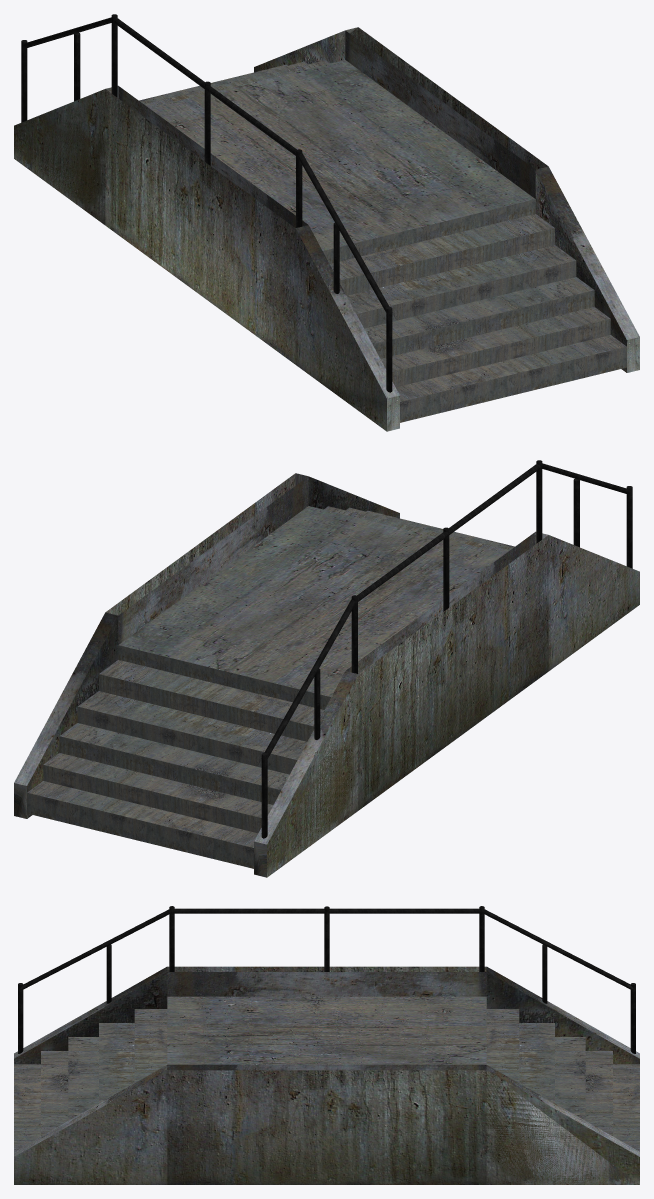
The model's file is OldDirtyStairs_Long_final.fbx.
3 views of the same model, one above another, from view 1: azimuth 30°, elevation 25°; view 2: azimuth 150°, elevation 25°; view 3: azimuth 270°, elevation 25° (orthographic). The views are drawn at different scales.
Parts seen in each view (by area): view 1: DirtyStairs_Long; view 2: DirtyStairs_Long; view 3: DirtyStairs_Long.
Part boxes in pixels (bbox=[...]): DirtyStairs_Long: bbox=[14, 14, 639, 431]; DirtyStairs_Long: bbox=[14, 460, 639, 877]; DirtyStairs_Long: bbox=[14, 906, 639, 1184].
Size of the model in its own units: 135 by 107 by 344.
